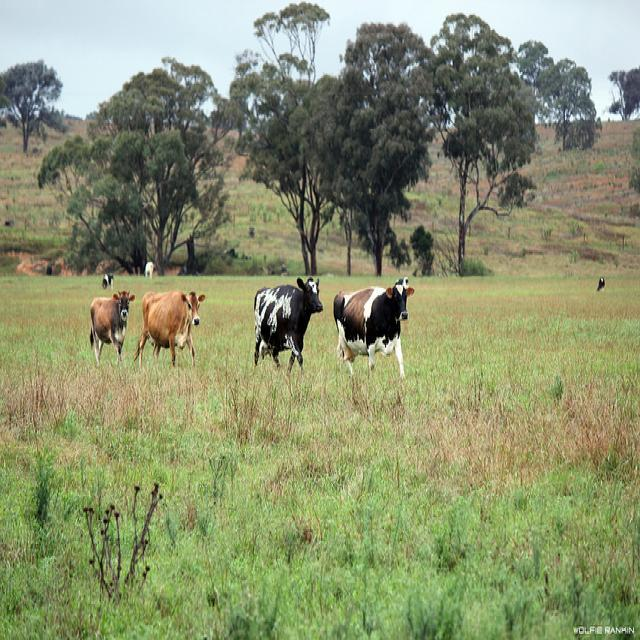cow: (330, 279, 414, 379), (253, 276, 321, 370), (135, 289, 204, 366), (88, 286, 135, 366), (100, 271, 112, 288), (595, 275, 604, 290)
